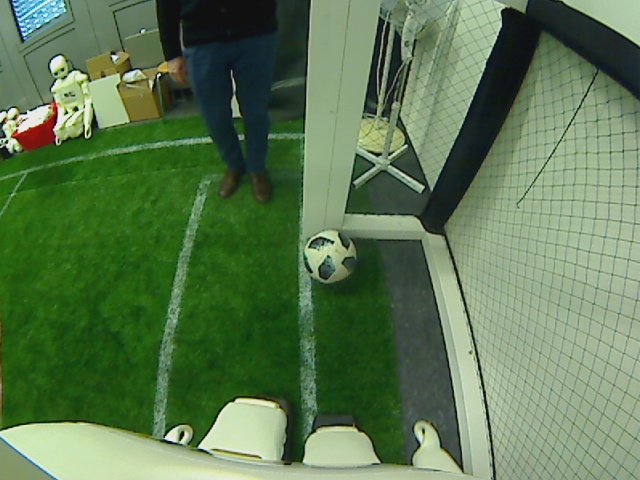ball: (305, 227, 357, 282)
